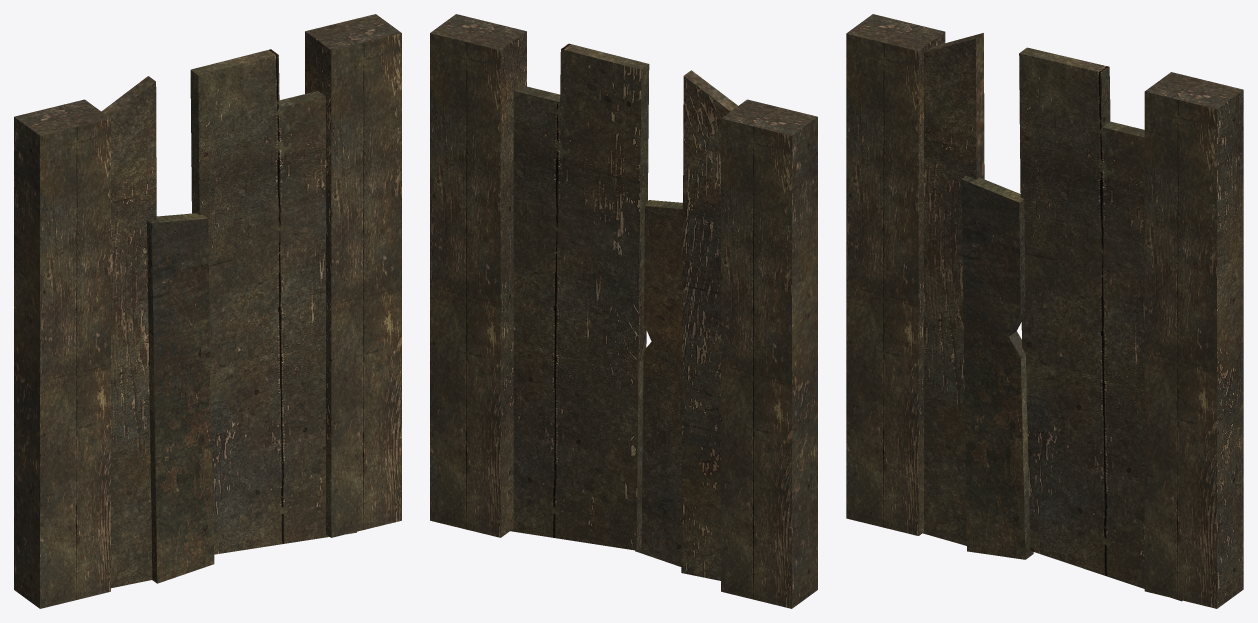
Rendered from Wall_Wood2.fbx.
The picture shows the model from 3 angles, left to right: view 1: azimuth 30°, elevation 25°; view 2: azimuth 150°, elevation 25°; view 3: azimuth 330°, elevation 25°; orthographic projection. The views are drawn at different scales.
Parts seen in each view (by area): view 1: woodwall1; view 2: woodwall1; view 3: woodwall1.
Part boxes in pixels (x1,y1,x2,y2): woodwall1: [14, 14, 401, 608]; woodwall1: [430, 14, 817, 608]; woodwall1: [846, 14, 1243, 608].
Bounding box in the file's own units: 379 × 501 × 47.4.
